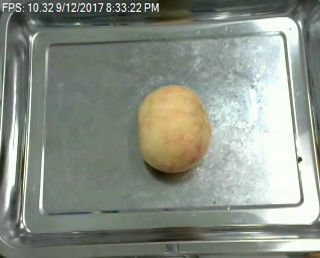Peach: (137, 84, 211, 173)
